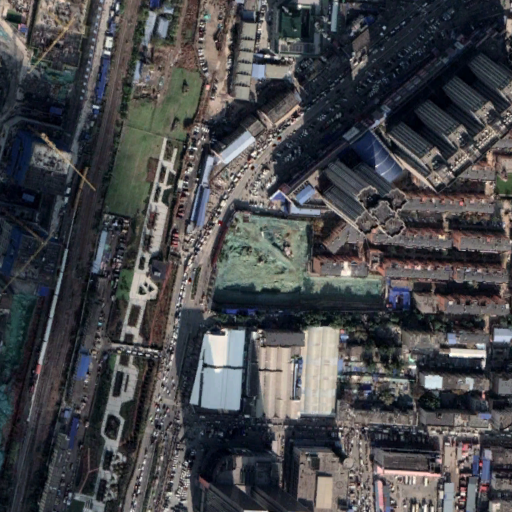cw: (210, 208, 386, 305)
